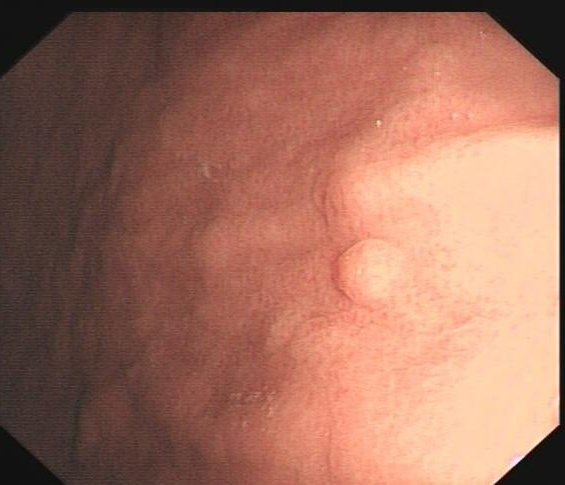Polyp: (328, 232, 408, 312)
